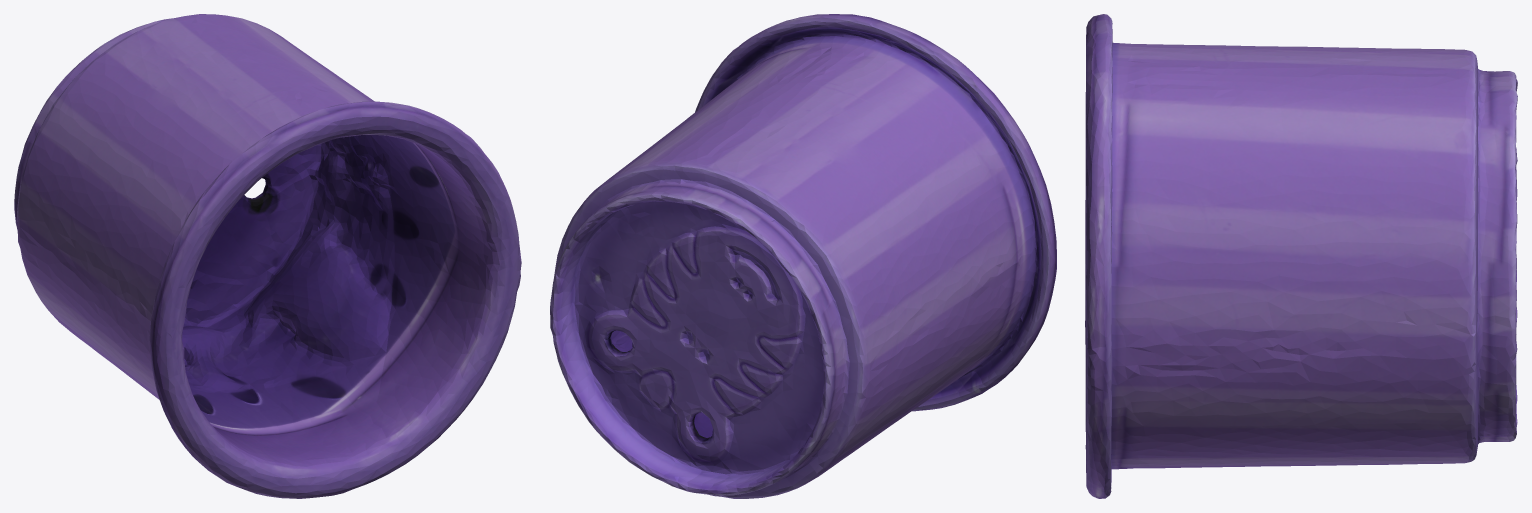
3 views of the same model, side by side, from view 1: azimuth 30°, elevation 25°; view 2: azimuth 150°, elevation 25°; view 3: azimuth 270°, elevation 25° (orthographic). The views are drawn at different scales.
Parts seen in each view (by area): view 1: node; view 2: node; view 3: node.
Part boxes in pixels (<box>): node: <box>14,14,521,498</box>; node: <box>550,14,1056,498</box>; node: <box>1085,14,1517,498</box>.
Size of the model in its own units: 0.0807 by 0.0809 by 0.0722.
Materials: 1 (1 with a texture image).
